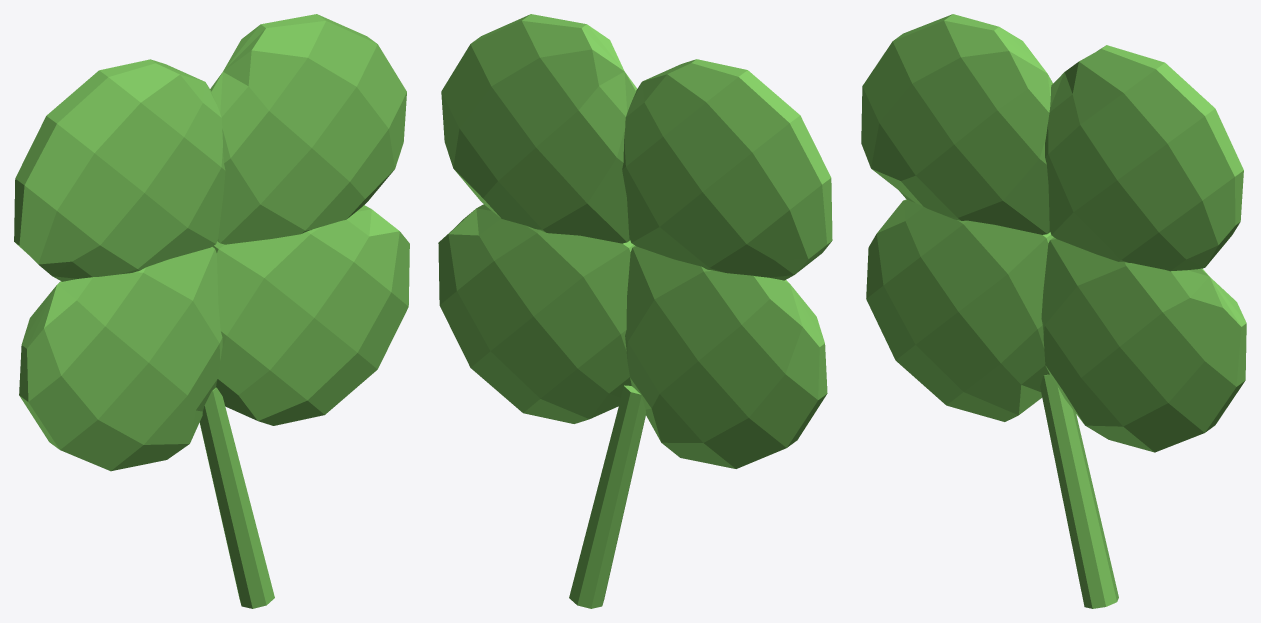
File: Trebol.fbx
3 views of the same model, side by side, from view 1: azimuth 30°, elevation 25°; view 2: azimuth 150°, elevation 25°; view 3: azimuth 330°, elevation 25° (orthographic). The views are drawn at different scales.
Parts seen in each view (by area): view 1: Trébol | tallo; view 2: Trébol | tallo; view 3: Trébol | tallo.
Boxes of the visible parts, <box> form: Trébol | tallo: <box>14,14,409,608</box>; Trébol | tallo: <box>438,14,832,608</box>; Trébol | tallo: <box>861,14,1246,608</box>.
Size of the model in its own units: 181 by 256 by 28.
